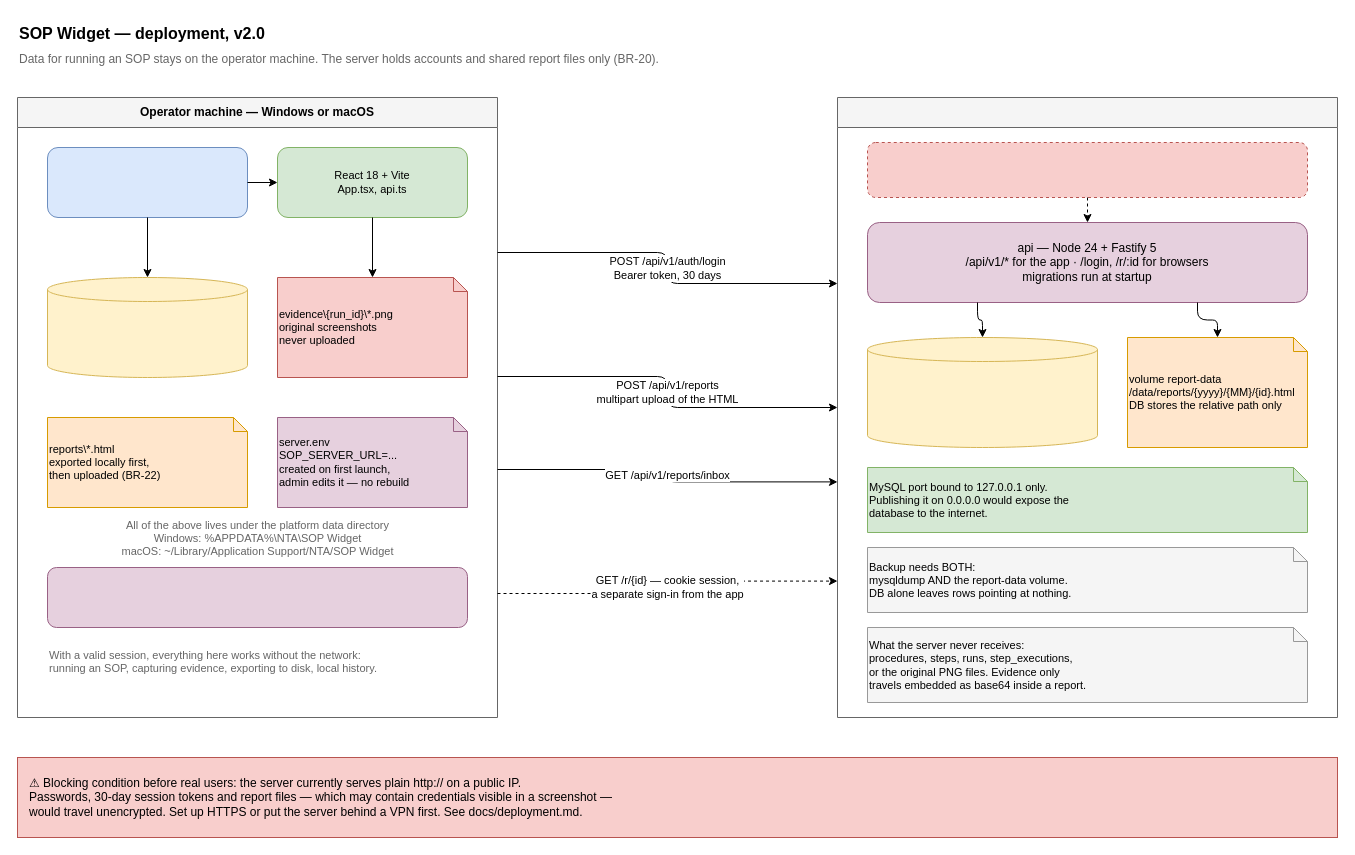
Some shapes in this 1355 by 855 pixel diagram are drawn without their labels. Each missing label, with the box of its shape:
db — MySQL 8 users, sessions, reports, report_recipients, schema_migrations: (866, 336, 1098, 448)
Default browser opens the share link — its own web session: (46, 566, 468, 628)
Reverse proxy + TLS NOT SET UP YET — see the warning below: (866, 142, 1308, 198)
Server — 54.178.76.191 (Docker Compose): (836, 96, 1338, 718)
SOP Widget (Tauri 2) WebView + Rust core: (46, 146, 248, 218)
SQLite — sop-widget.db procedures, steps, runs, step_executions, auth_session: (46, 276, 248, 378)
